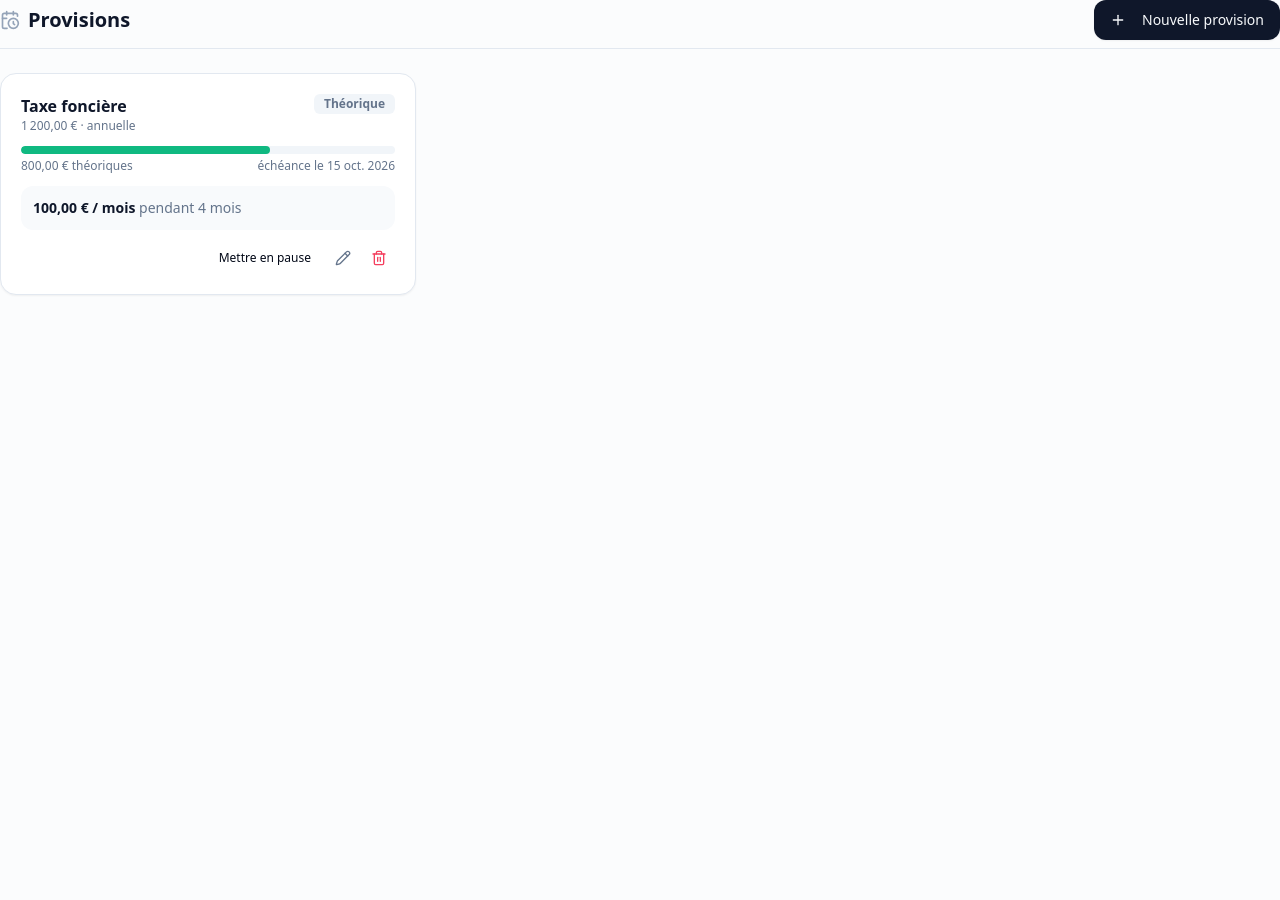
Test: ProvisionsSection › ne supprime qu'après confirmation
Click the button titled "Supprimer": point(379, 258) [363, 242, 395, 274]
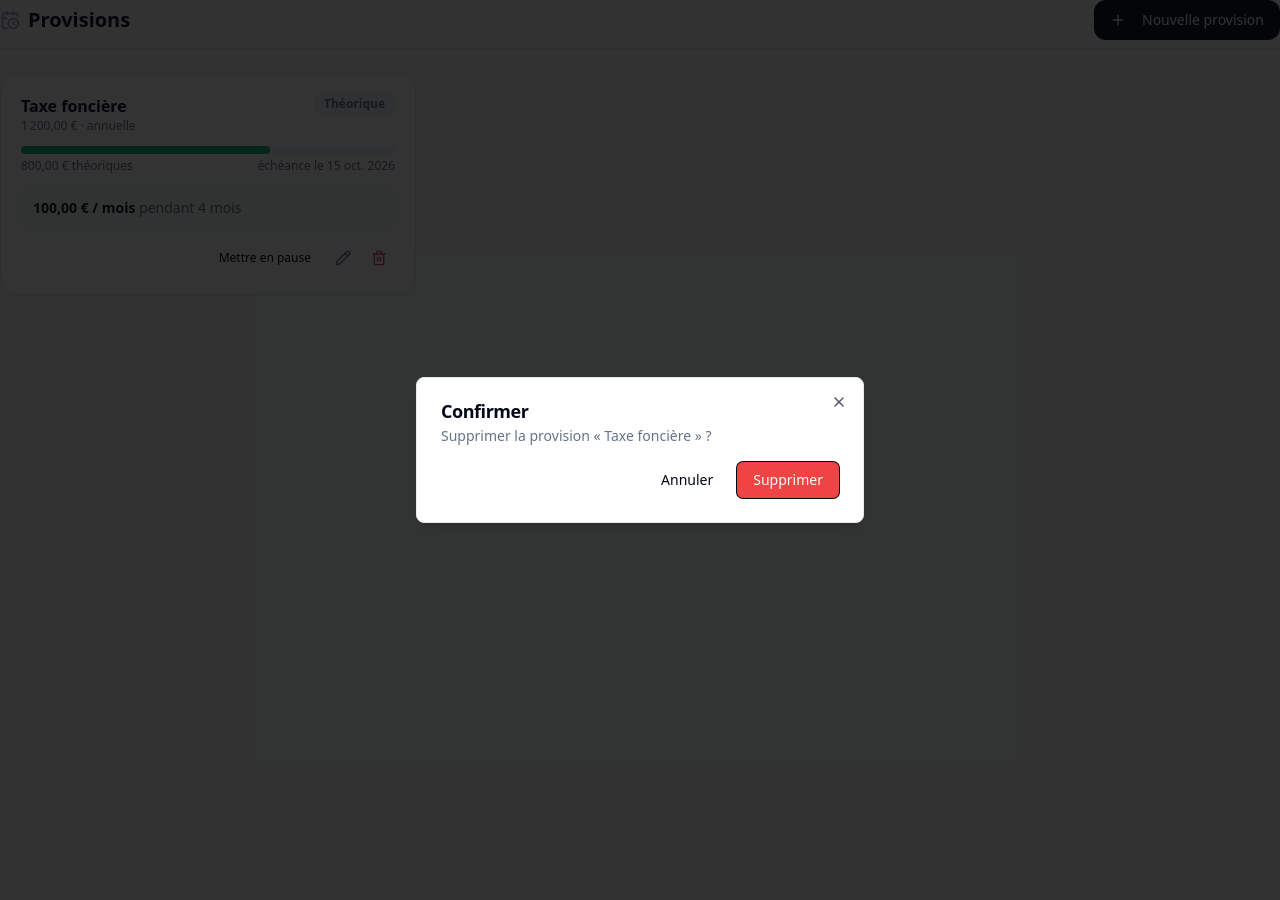
Click the button "Annuler": point(687, 480) [645, 462, 729, 498]
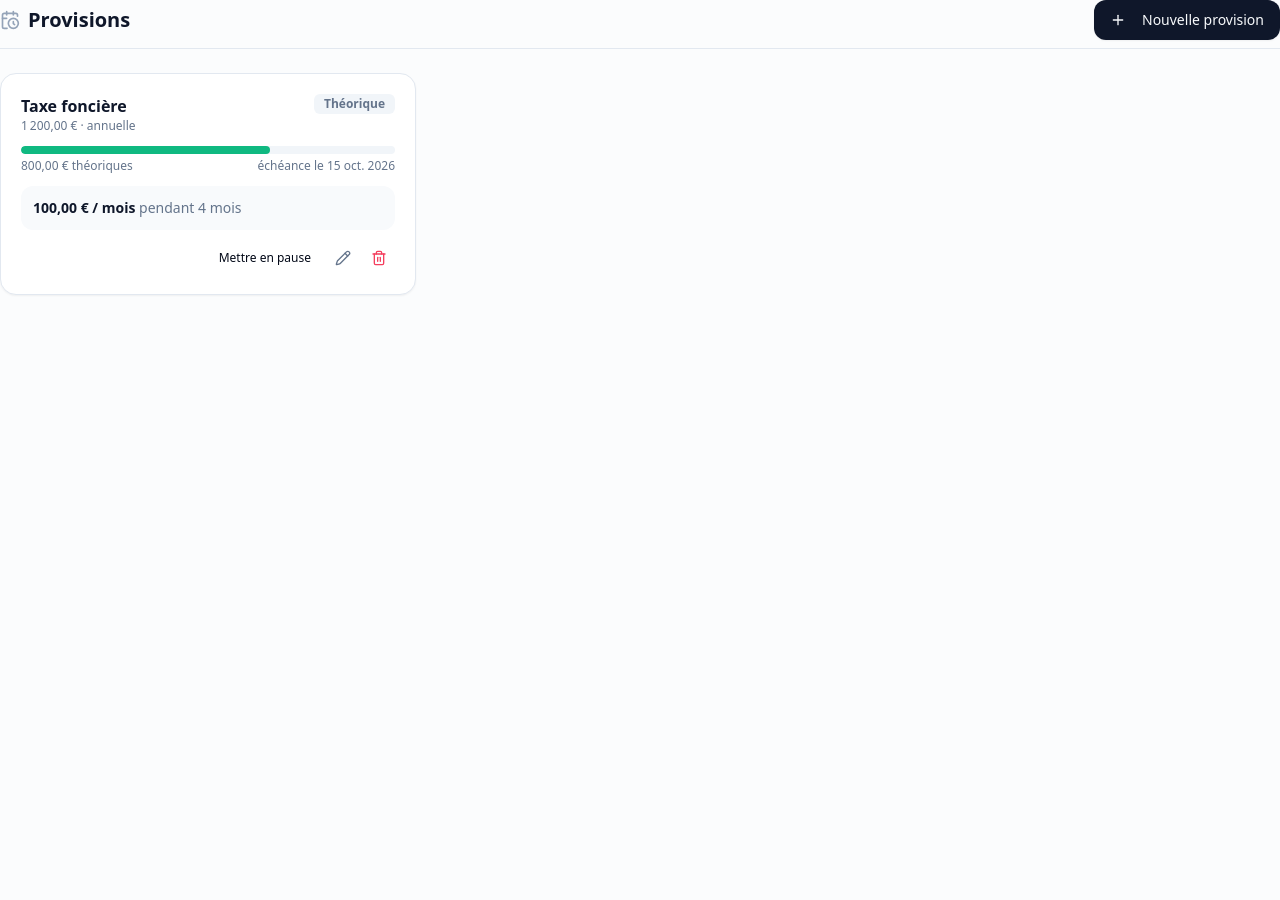
Click the button titled "Supprimer": point(379, 258) [363, 242, 395, 274]
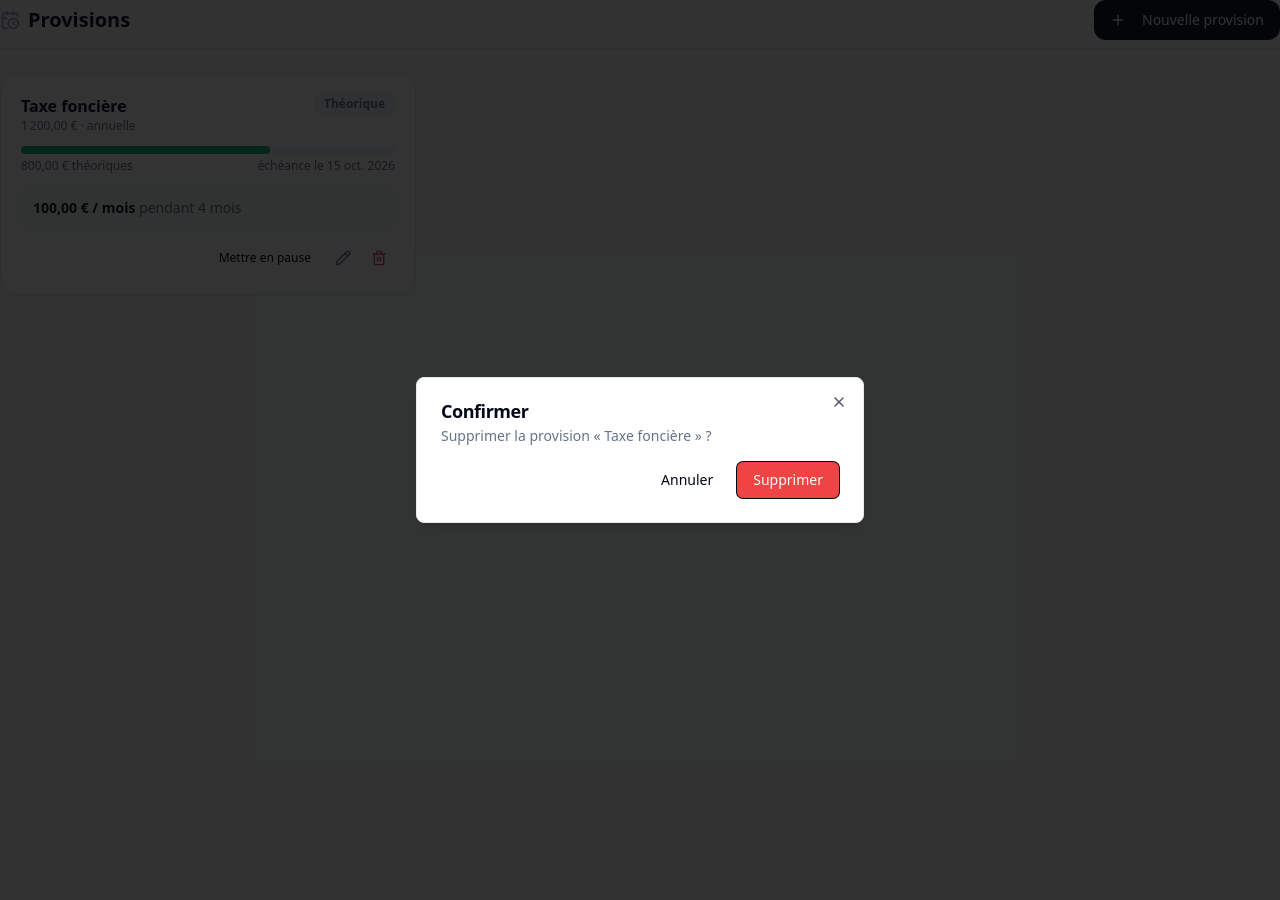
Click the button "Supprimer": point(788, 480) [737, 462, 839, 498]
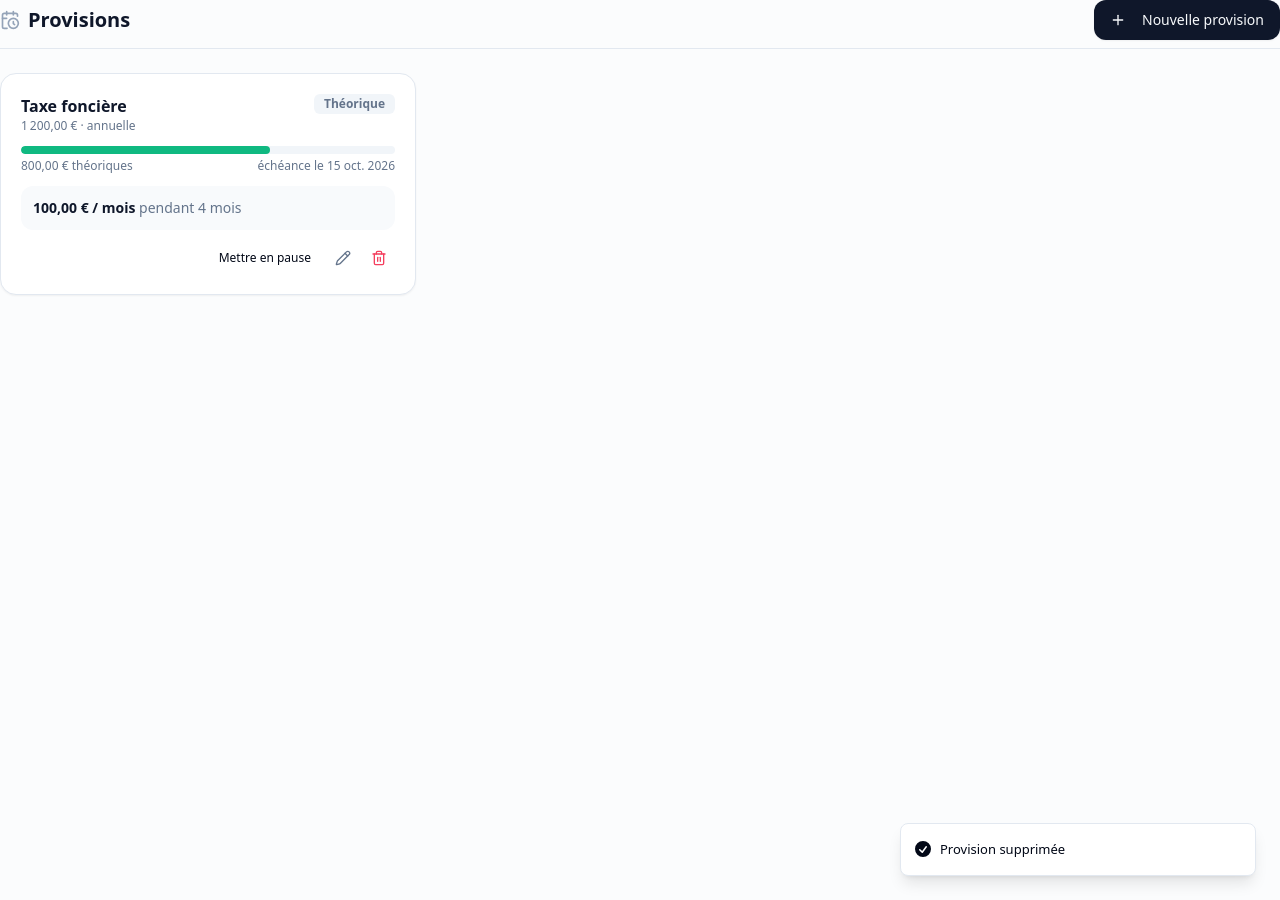
Check: the text "Provision supprimée" is shown, box [940, 840, 1065, 859]
